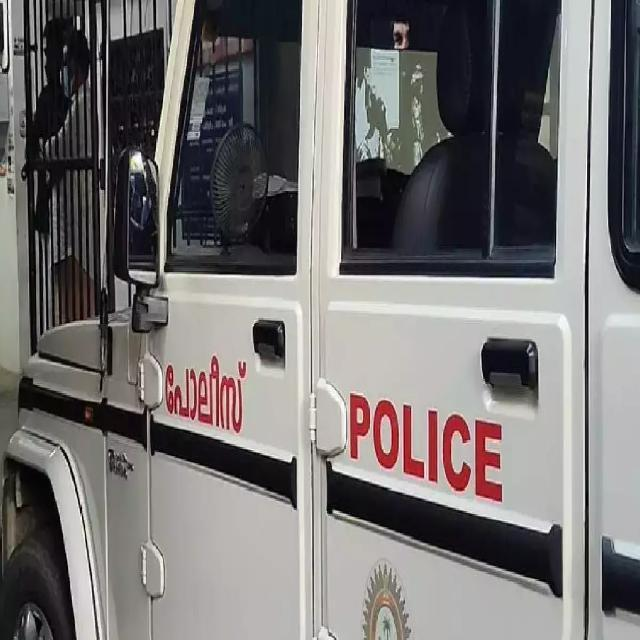Ambulance: (2, 3, 635, 636)
